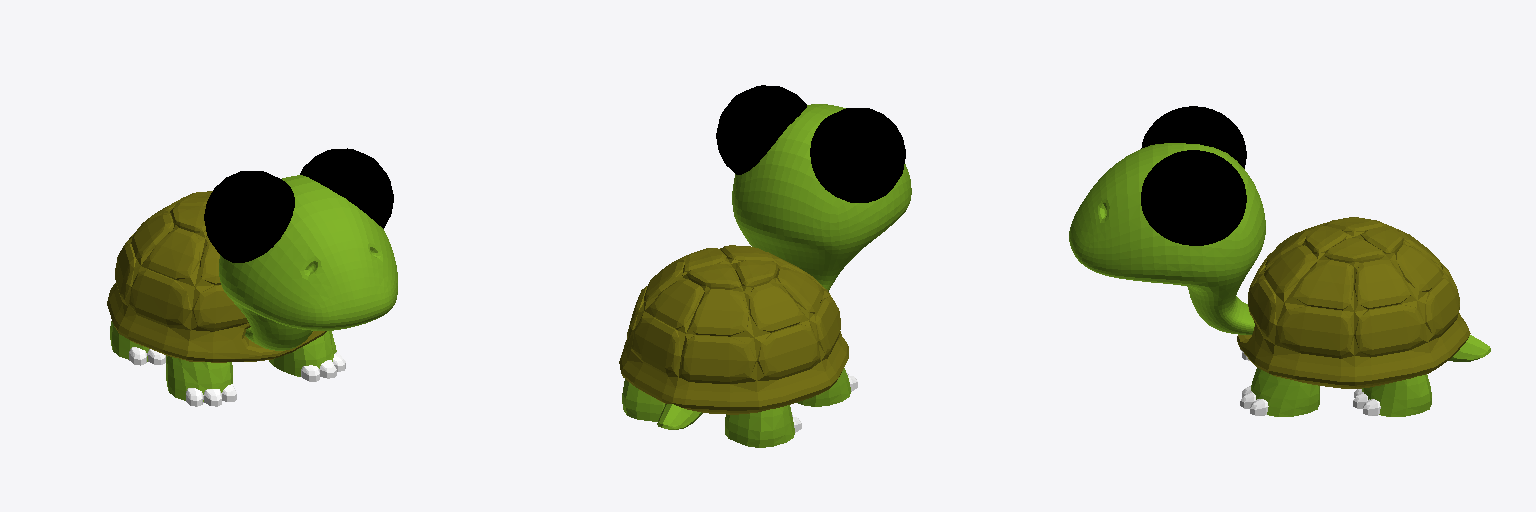
Rendered from zzz.obj.
The picture shows the model from 3 angles: view 1: azimuth 30°, elevation 25°; view 2: azimuth 150°, elevation 25°; view 3: azimuth 270°, elevation 25°; orthographic projection.
Visible parts, largest first — view 1: pCube1, pSphere3, pSphere5, pSphere4, group2 pCube2, group1 pCube2, group5 pCube4; view 2: pSphere3, pCube1, pSphere5, pSphere4, group5 pCube4, group4 pCube4, group2 pCube2, pCube9; view 3: pSphere3, pCube1, pSphere4, pSphere5, group1 pCube2, group4 pCube4, pCube9.
Part boxes in pixels (x1,y1,x2,y2): pCube1: (219,175,397,350); pSphere3: (107,191,326,362); pSphere5: (204,171,294,262); pSphere4: (300,148,393,228); group2 pCube2: (166,355,232,401); group1 pCube2: (269,331,336,376); group5 pCube4: (110,321,148,361); pSphere3: (619,245,848,414); pCube1: (732,104,911,291); pSphere5: (810,108,905,202); pSphere4: (716,85,806,174); group5 pCube4: (725,405,794,447); group4 pCube4: (622,379,664,421); group2 pCube2: (797,368,850,406); pCube9: (657,404,702,429); pSphere3: (1237,217,1470,388); pCube1: (1069,143,1265,334); pSphere4: (1141,150,1246,245); pSphere5: (1141,106,1246,168); group1 pCube2: (1251,368,1319,416); group4 pCube4: (1362,374,1431,416); pCube9: (1449,335,1490,361).
Size of the model in its own units: 11.38 by 13.33 by 20.63.